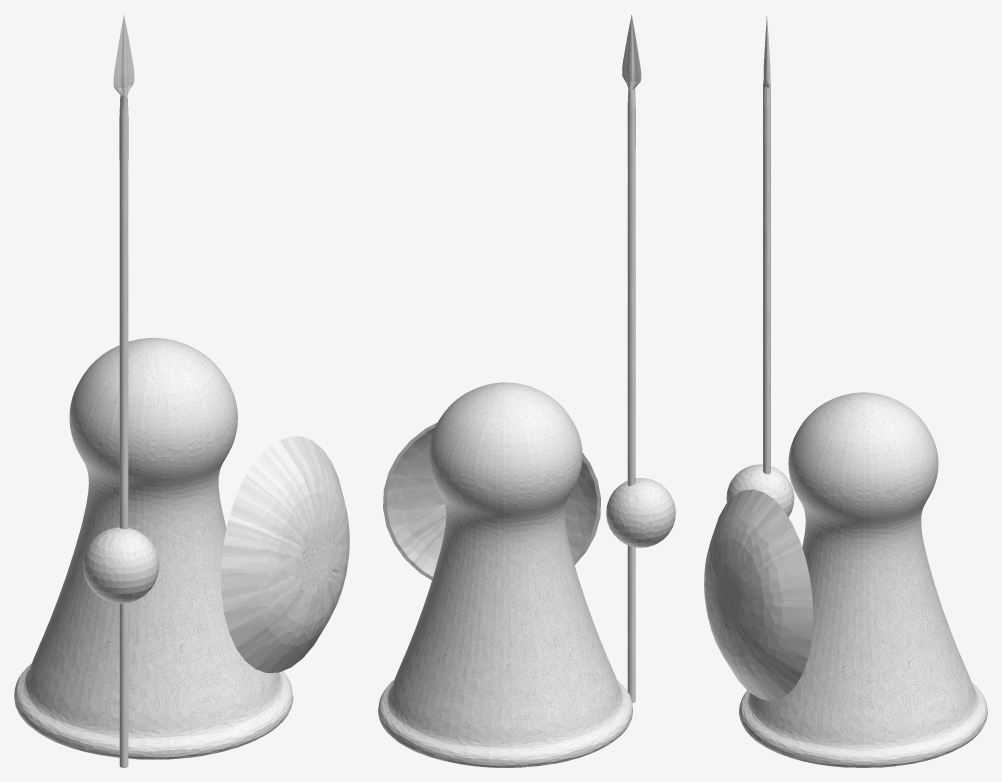
Rendered from UnitSpearman.obj.
The picture shows the model from 3 angles, left to right: view 1: azimuth 30°, elevation 25°; view 2: azimuth 150°, elevation 25°; view 3: azimuth 270°, elevation 25°; orthographic projection. The views are drawn at different scales.
Visible parts, largest first — view 1: Body, Shield, Spear, Hand1; view 2: Body, Shield, Spear, Hand1; view 3: Body, Shield, Spear, Hand1.
Boxes of the visible parts, x1,y1,x2,y2 form: Body: (14, 338, 293, 759); Shield: (221, 436, 349, 672); Spear: (113, 15, 134, 767); Hand1: (83, 527, 159, 603); Body: (378, 382, 632, 767); Shield: (383, 422, 601, 580); Spear: (622, 15, 641, 702); Hand1: (606, 478, 675, 547); Body: (739, 392, 987, 767); Shield: (704, 489, 813, 700); Spear: (763, 16, 770, 474); Hand1: (726, 464, 794, 517).
Bounding box in the file's own units: 0.6898 × 1.73 × 0.6642.
1 material, 1 textured.
